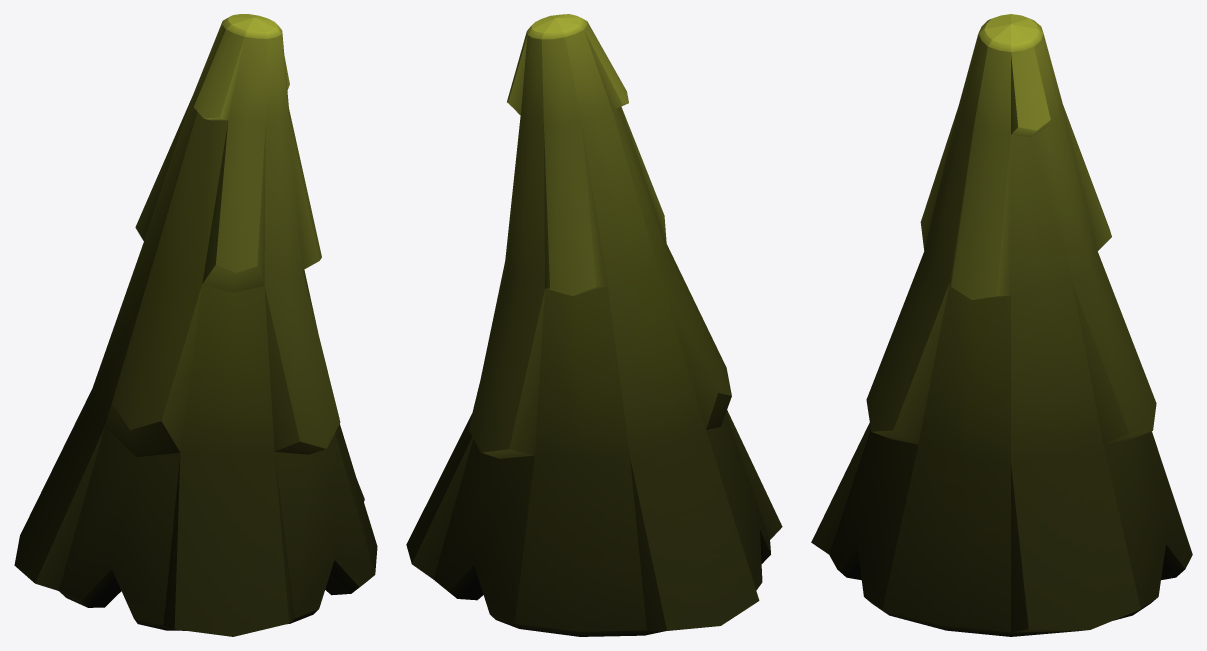
The model's file is Leaves_01C.fbx.
3 views of the same model, side by side, from view 1: azimuth 30°, elevation 25°; view 2: azimuth 150°, elevation 25°; view 3: azimuth 270°, elevation 25° (orthographic). The views are drawn at different scales.
Parts seen in each view (by area): view 1: Leaves_01C; view 2: Leaves_01C; view 3: Leaves_01C.
Boxes of the visible parts, bbox=[...] form: Leaves_01C: bbox=[14, 14, 377, 636]; Leaves_01C: bbox=[406, 14, 782, 636]; Leaves_01C: bbox=[811, 14, 1192, 636].
Size of the model in its own units: 454 by 711 by 432.
